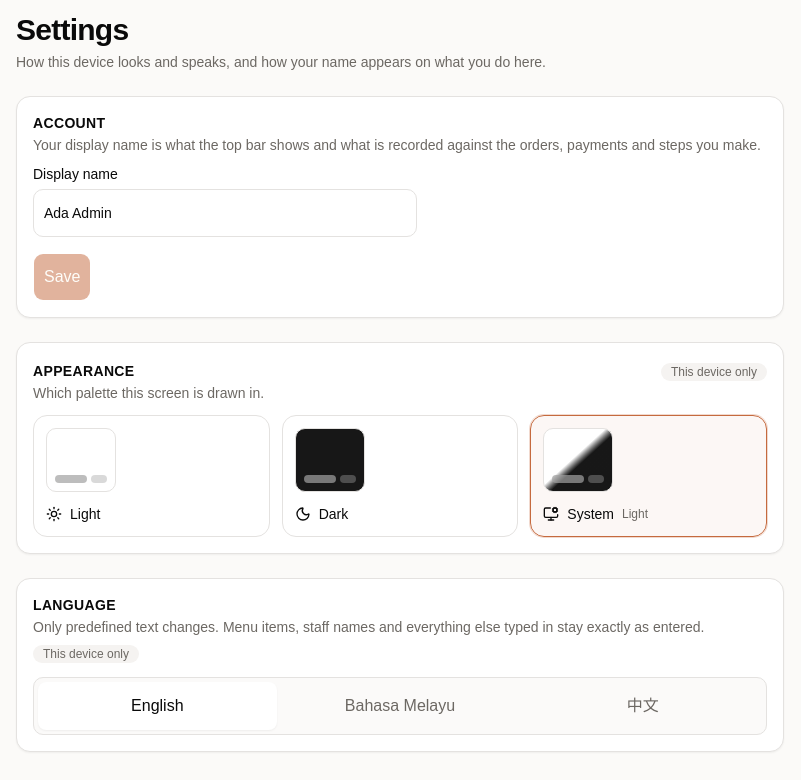
Test case: the language panel › changes the interface and tells the document
Click the radio button with test id "language-ms" at (400, 706), box [281,682,519,730]
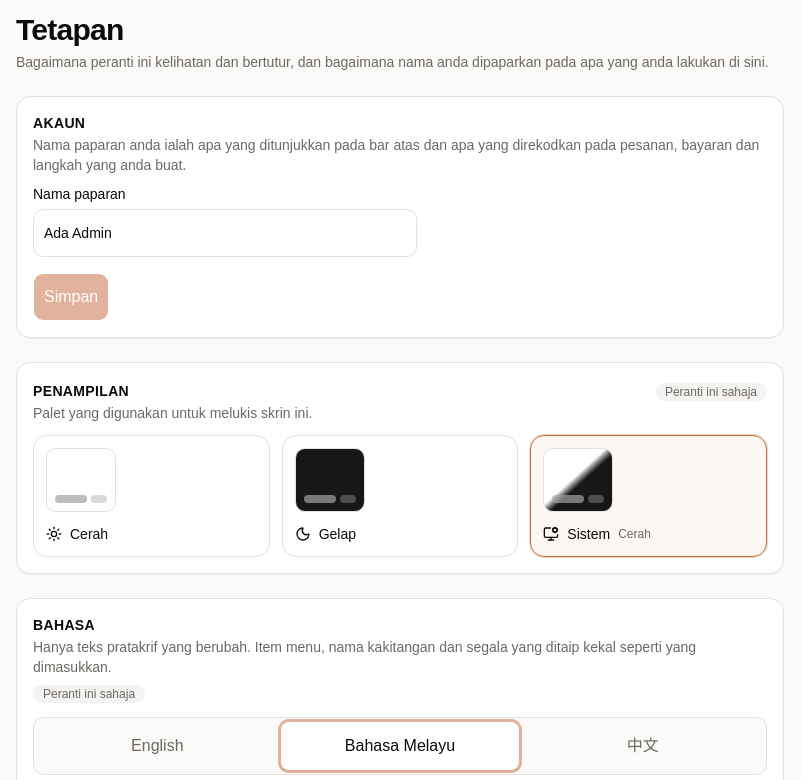
Result: the heading "Tetapan" is shown at [16,13,124,46]
